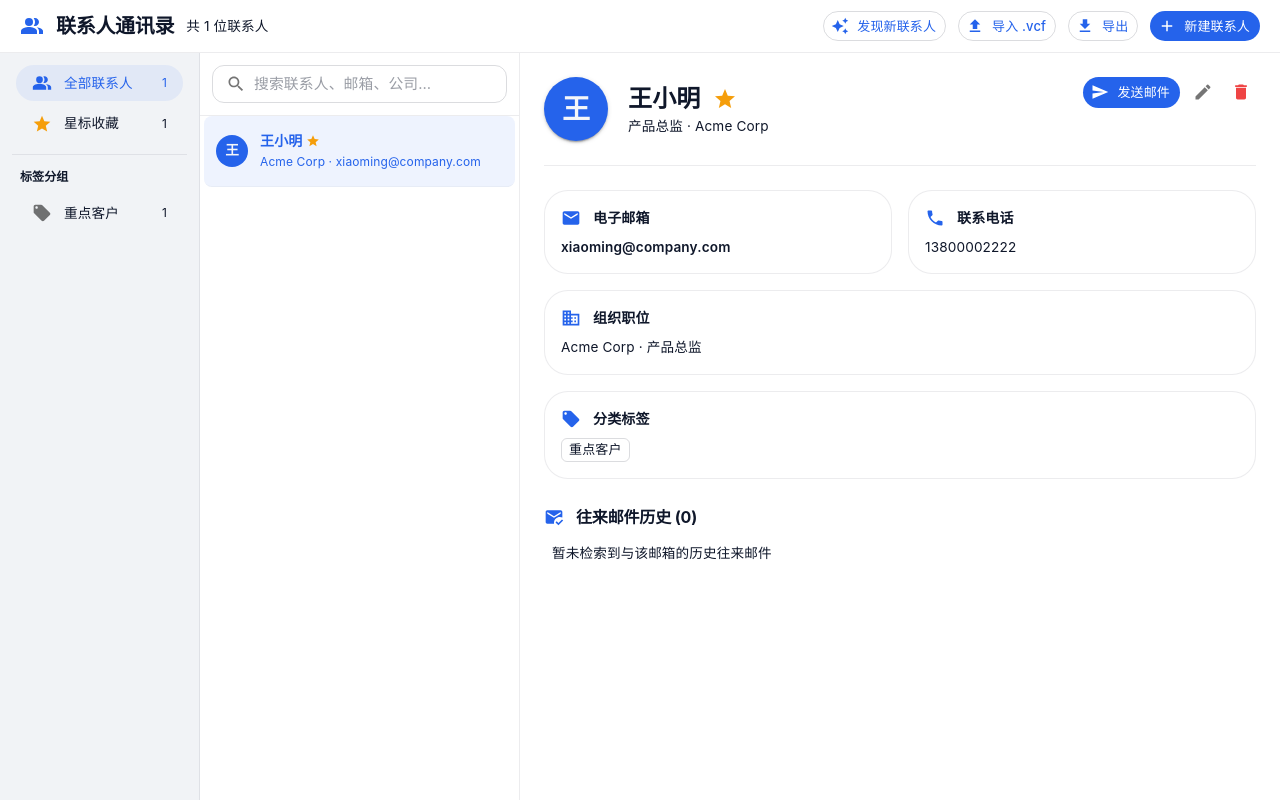
Test case: ContactsView Component › opens harvester dialog when clicking 发现新联系人
Click the button "发现新联系人".
click(885, 26)  # box [823, 11, 946, 41]
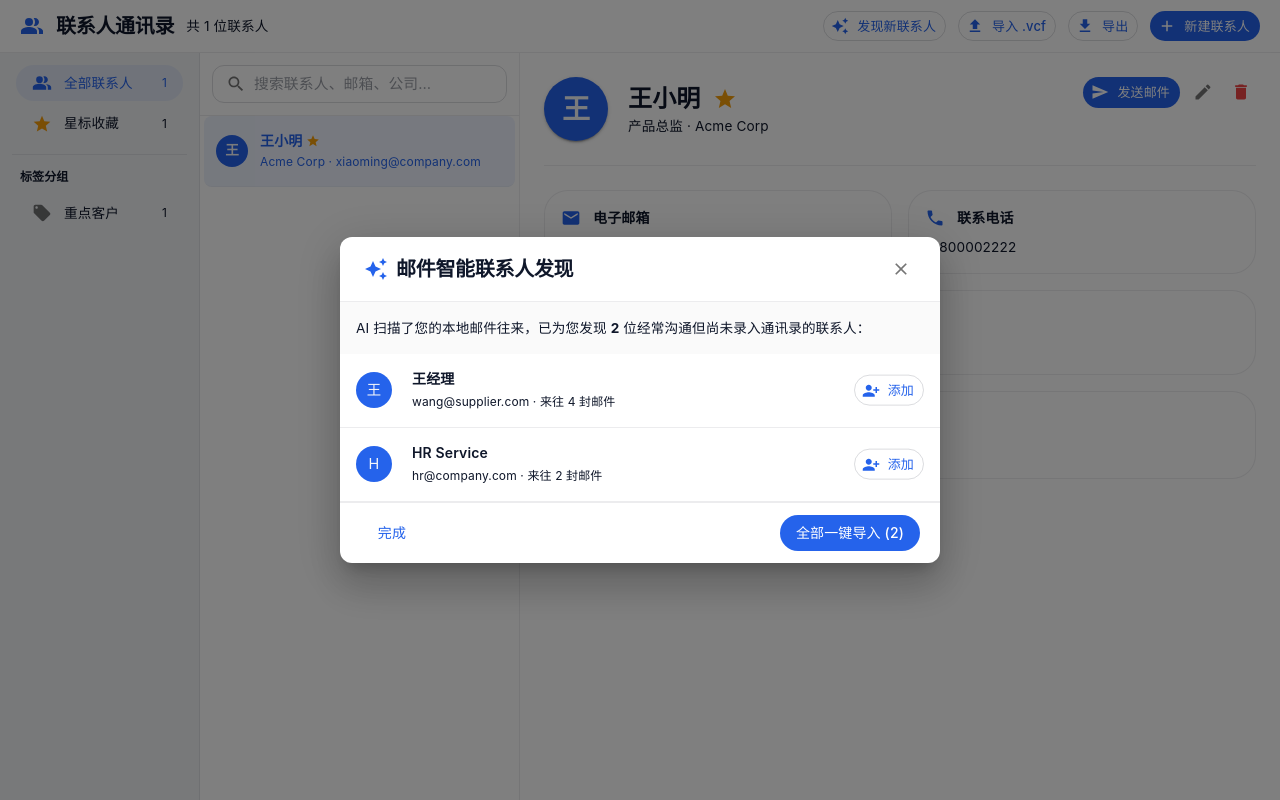
Expected: the heading "邮件智能联系人发现" is shown, [396, 253, 573, 285]
